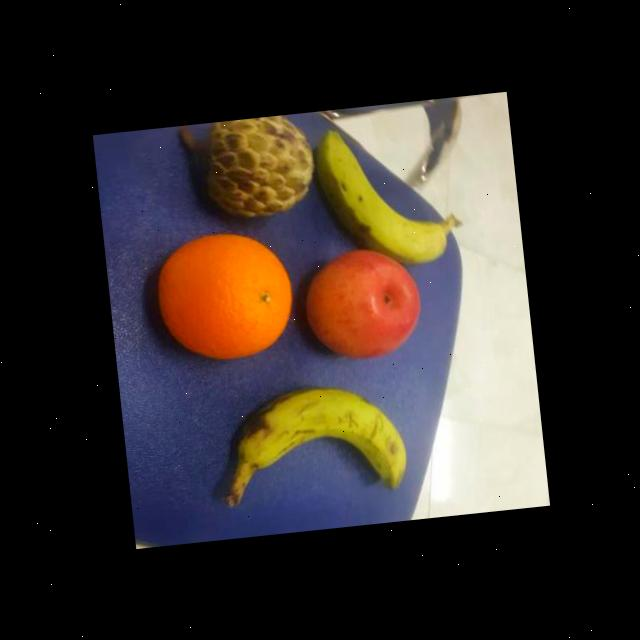Sakya fruit: (200, 112, 320, 227)
apple: (296, 242, 428, 366)
banana: (308, 113, 458, 274), (230, 374, 412, 506)
orange: (149, 226, 300, 366)
